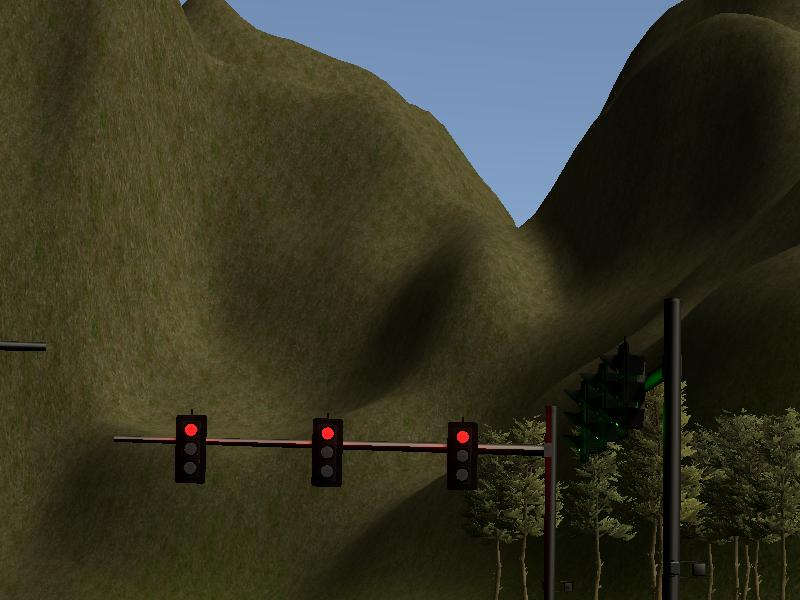Red: (314, 418, 341, 487), (449, 421, 476, 489), (178, 414, 204, 483)
